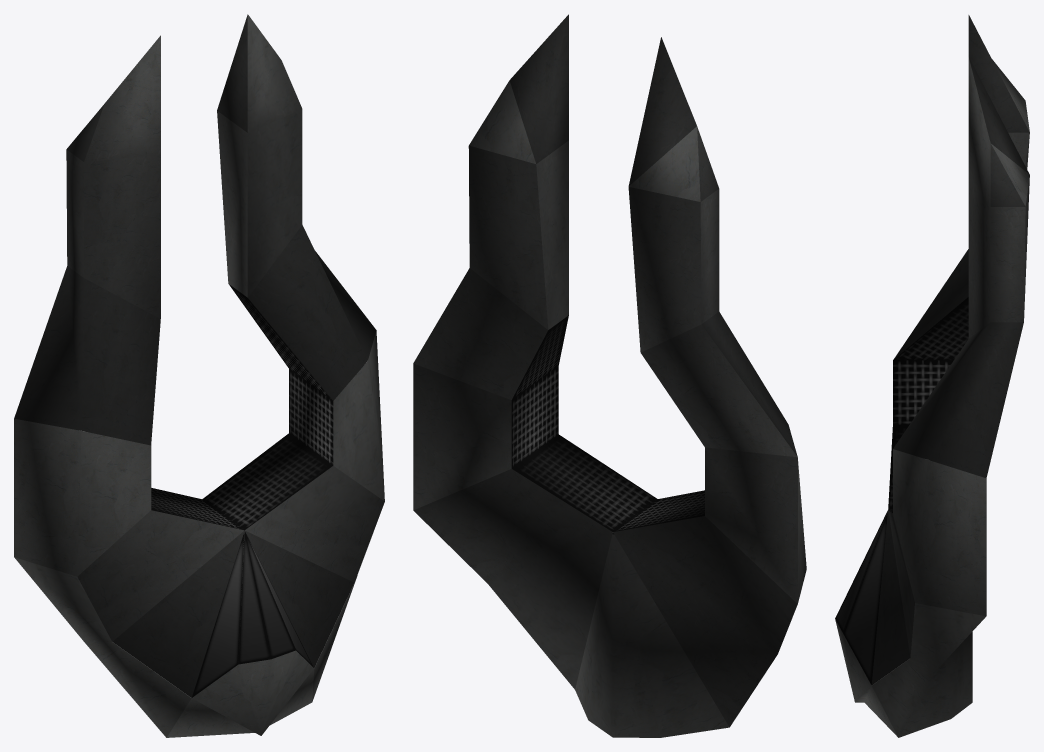
The model's file is Stinger.fbx.
The picture shows the model from 3 angles, left to right: view 1: azimuth 30°, elevation 25°; view 2: azimuth 150°, elevation 25°; view 3: azimuth 270°, elevation 25°; orthographic projection. The views are drawn at different scales.
Visible parts, largest first — view 1: Cube; view 2: Cube; view 3: Cube.
Boxes of the visible parts, left/top/right/bottom form: Cube: left=14, top=14, right=384, bottom=737; Cube: left=413, top=14, right=806, bottom=737; Cube: left=835, top=15, right=1029, bottom=737.
Bounding box in the file's own units: 3.92 × 6.92 × 1.83.
